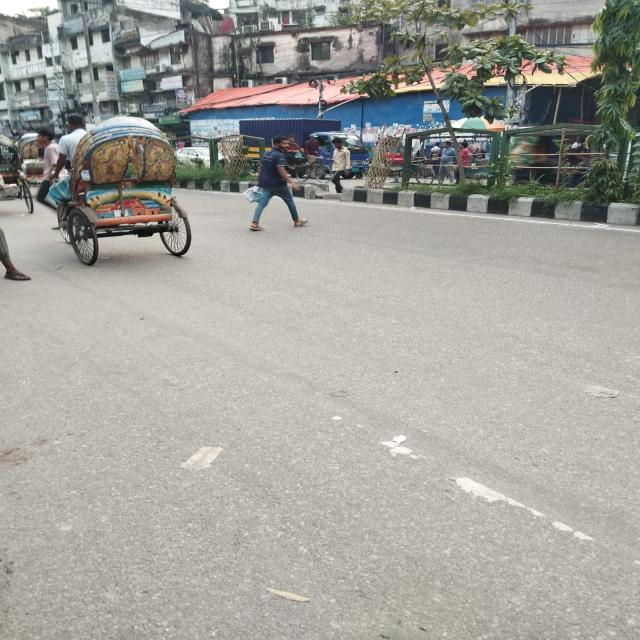person: (248, 136, 308, 231)
